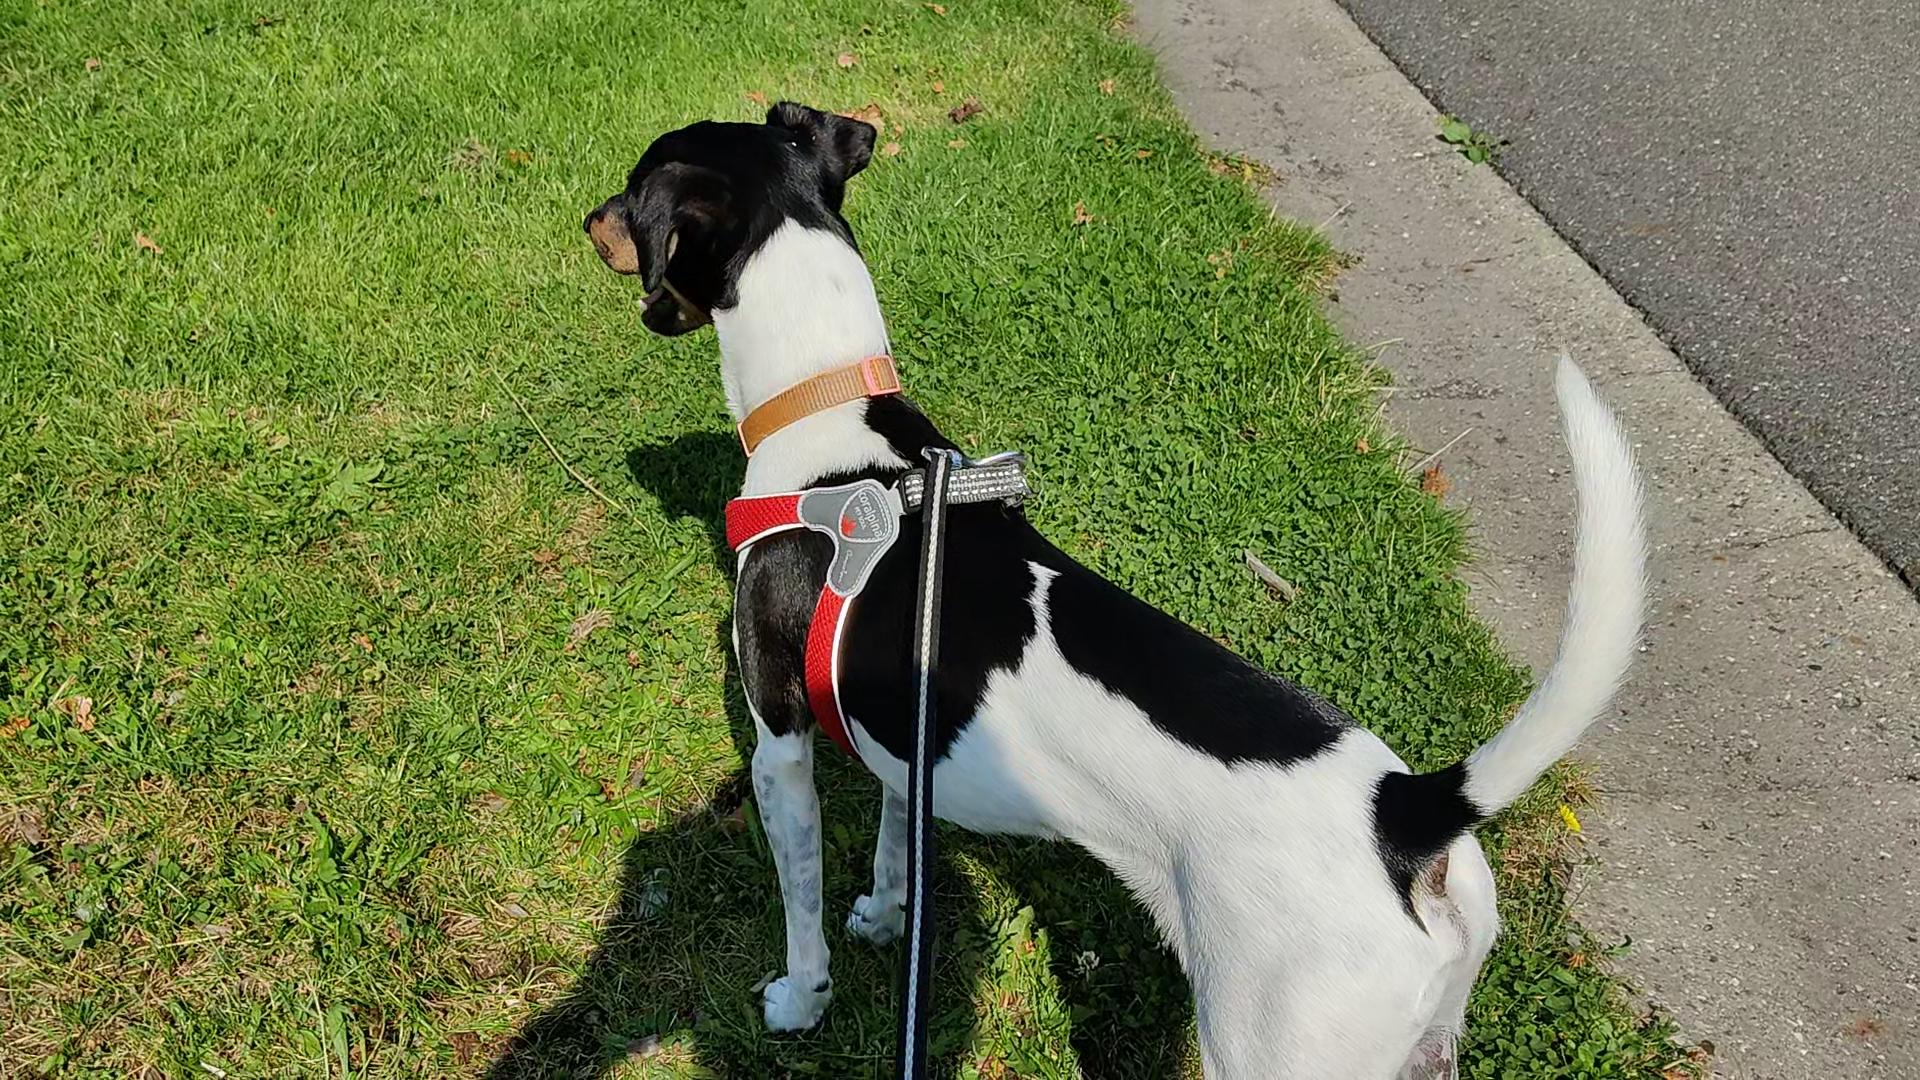Dog: (570, 90, 1665, 1079)
